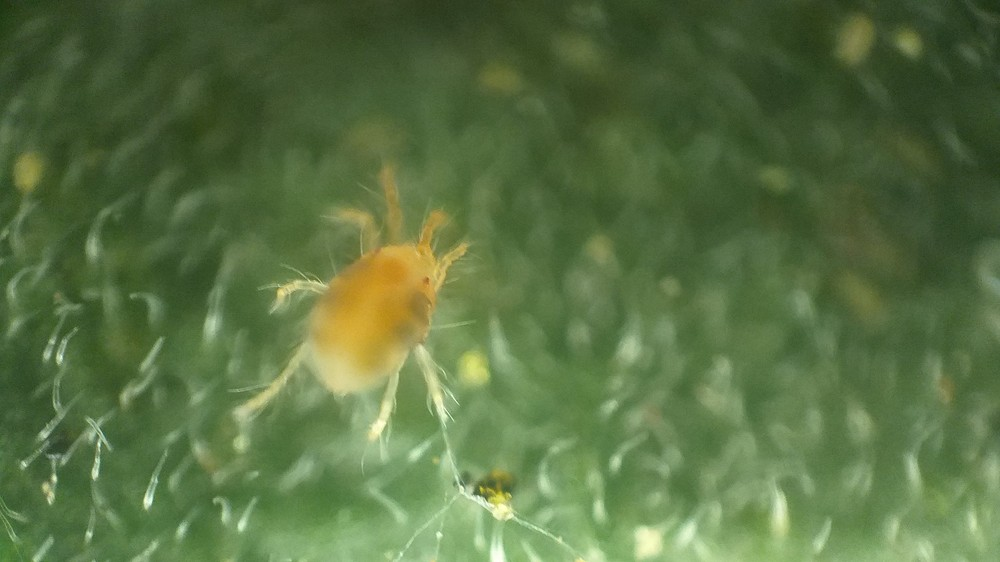Aracnido Rojo: (217, 160, 513, 461)
